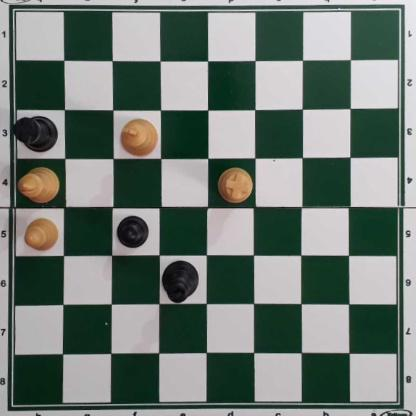black-king: (162, 261, 201, 304)
black-pawn: (117, 216, 149, 251)
black-rook: (16, 115, 59, 155)
white-bishop: (17, 167, 60, 205)
white-king: (120, 118, 159, 159)
white-pawn: (25, 219, 60, 251)
white-rook: (219, 168, 253, 204)
